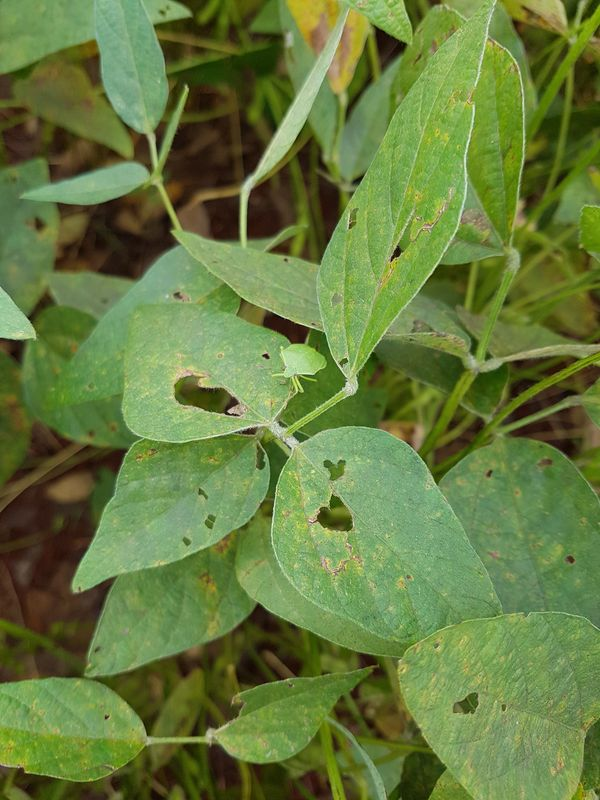Nezara_viridula_adulto: (260, 329, 342, 400)
